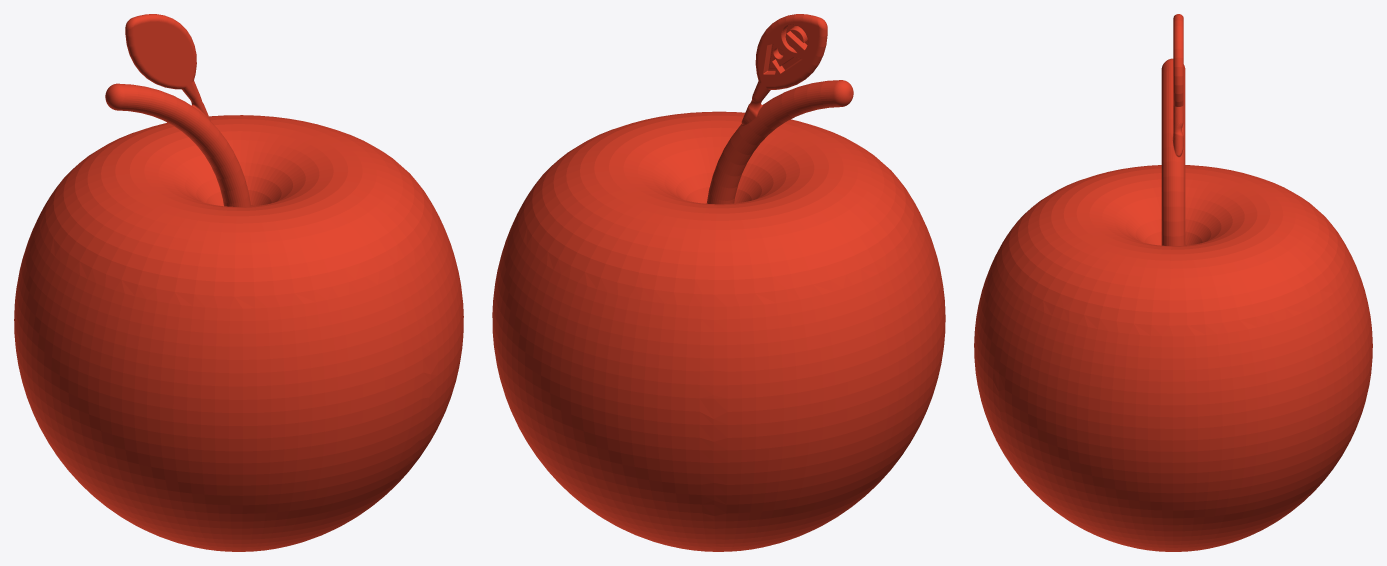
The model's file is Apple.dae.
The picture shows the model from 3 angles, left to right: view 1: azimuth 30°, elevation 25°; view 2: azimuth 150°, elevation 25°; view 3: azimuth 270°, elevation 25°; orthographic projection. The views are drawn at different scales.
Parts seen in each view (by area): view 1: apple; view 2: apple; view 3: apple.
Part boxes in pixels (x1=…): apple: x1=14, y1=14, x2=463, y2=551; apple: x1=492, y1=14, x2=945, y2=551; apple: x1=974, y1=14, x2=1372, y2=551.
Size of the model in its own units: 0.0767 by 0.0767 by 0.1009.
